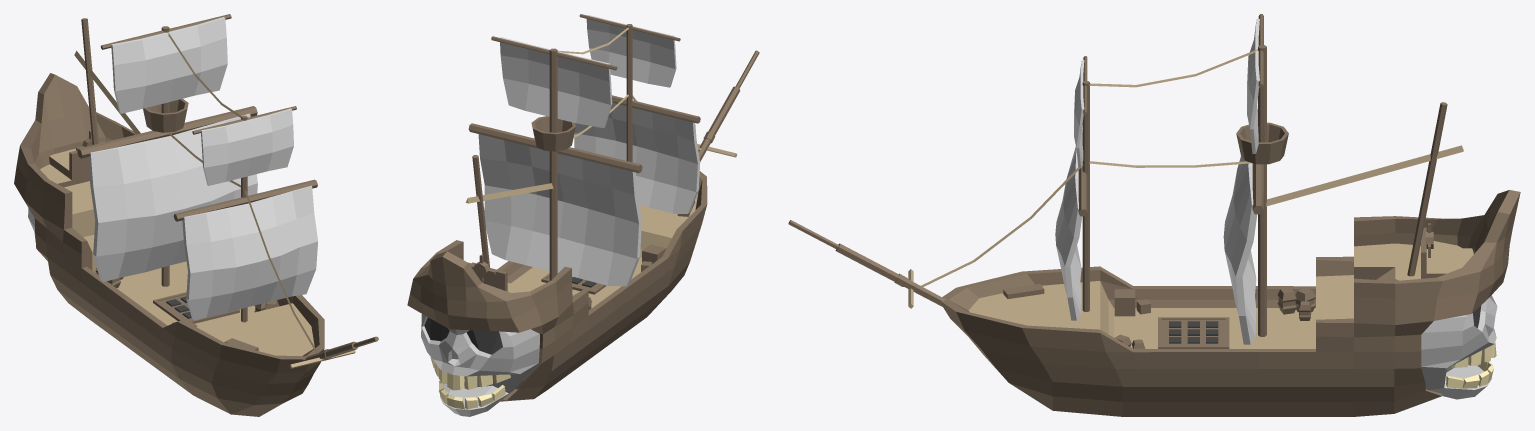
The model's file is TD_Model_Ship_BlackLadyShip.fbx.
3 views of the same model, side by side, from view 1: azimuth 30°, elevation 25°; view 2: azimuth 150°, elevation 25°; view 3: azimuth 270°, elevation 25° (orthographic). The views are drawn at different scales.
Parts seen in each view (by area): view 1: TheBlackLady_Mesh, Cube; view 2: TheBlackLady_Mesh, Cube.011; view 3: TheBlackLady_Mesh, Cube.
Part boxes in pixels (x1,y1,x2,y2): TheBlackLady_Mesh: [14, 14, 378, 416]; Cube: [153, 292, 239, 323]; TheBlackLady_Mesh: [407, 14, 759, 416]; Cube.011: [642, 244, 666, 263]; TheBlackLady_Mesh: [788, 14, 1520, 416]; Cube: [1158, 317, 1229, 348].
Bounding box in the file's own units: 2447 × 4404 × 7902.
